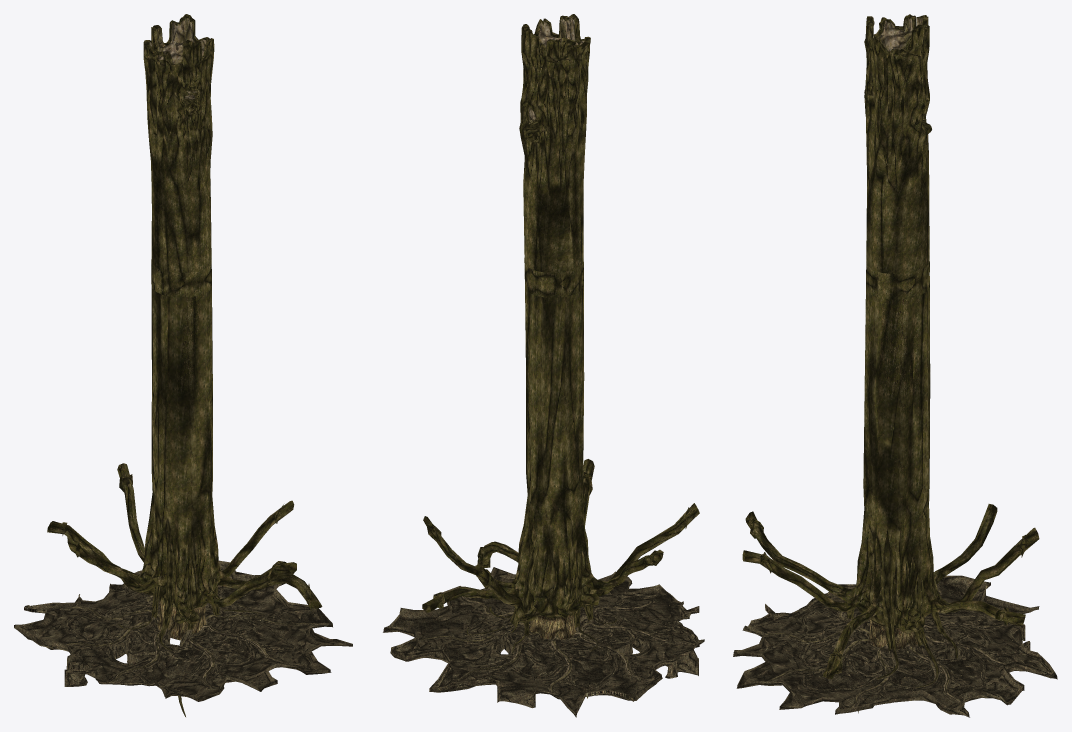
3 renders of one model, left to right at view 1: azimuth 30°, elevation 25°; view 2: azimuth 150°, elevation 25°; view 3: azimuth 270°, elevation 25°, orthographic. The views are drawn at different scales.
Visible parts, largest first — view 1: mesh2, mesh0, mesh3, mesh4, mesh1, mesh5; view 2: mesh2, mesh0, mesh3, mesh4, mesh1, mesh5; view 3: mesh2, mesh0, mesh3, mesh4, mesh1, mesh5.
Part boxes in pixels (x1=…): mesh2: x1=47, y1=27, x2=322, y2=716; mesh0: x1=14, y1=570, x2=352, y2=701; mesh3: x1=14, y1=560, x2=352, y2=701; mesh4: x1=62, y1=14, x2=311, y2=621; mesh1: x1=53, y1=18, x2=316, y2=687; mesh5: x1=157, y1=599, x2=206, y2=640; mesh2: x1=422, y1=25, x2=699, y2=698; mesh0: x1=383, y1=576, x2=703, y2=716; mesh3: x1=383, y1=567, x2=704, y2=717; mesh4: x1=426, y1=14, x2=688, y2=608; mesh1: x1=421, y1=18, x2=694, y2=693; mesh5: x1=529, y1=614, x2=576, y2=639; mesh2: x1=742, y1=17, x2=1039, y2=713; mesh0: x1=733, y1=582, x2=1054, y2=717; mesh3: x1=733, y1=575, x2=1057, y2=716; mesh4: x1=750, y1=14, x2=1025, y2=673; mesh1: x1=765, y1=17, x2=1009, y2=707; mesh5: x1=869, y1=619, x2=917, y2=649.
Size of the model in its own units: 37.77 by 92.7 by 38.74.
